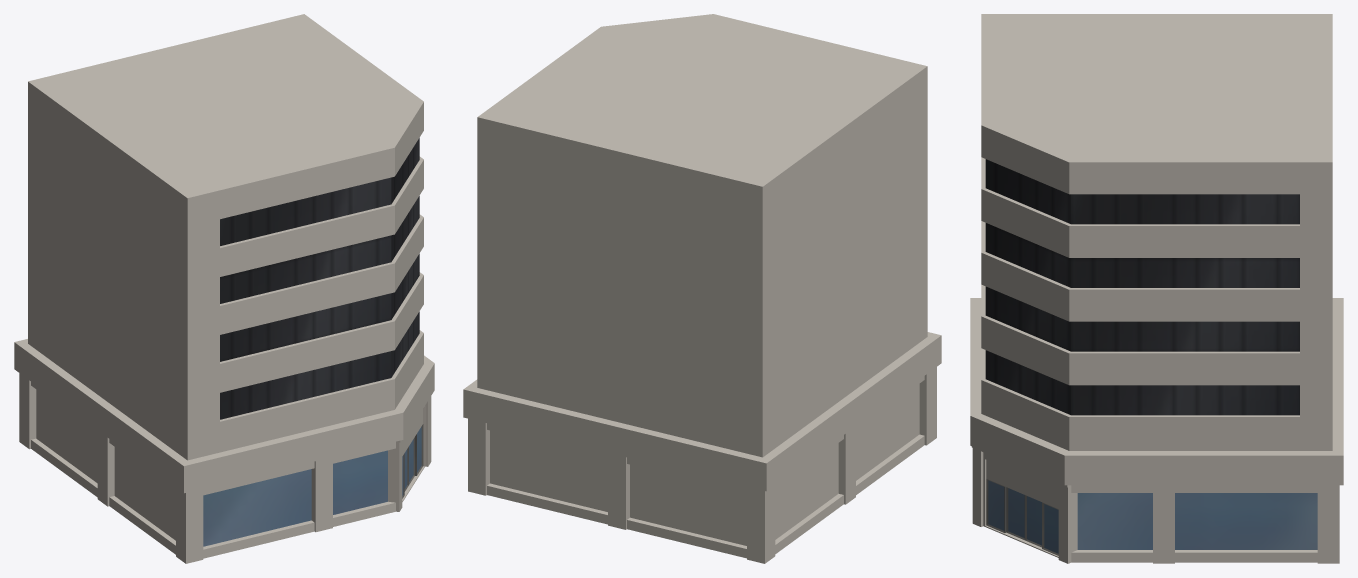
The model's file is Bld_Building_K.fbx.
3 renders of one model, left to right at view 1: azimuth 30°, elevation 25°; view 2: azimuth 150°, elevation 25°; view 3: azimuth 270°, elevation 25°, orthographic. The views are drawn at different scales.
Visible parts, largest first — view 1: Bld_Building_K; view 2: Bld_Building_K; view 3: Bld_Building_K.
Part boxes in pixels (left/top/right/bottom): Bld_Building_K: left=14, top=14, right=434, bottom=563; Bld_Building_K: left=463, top=14, right=941, bottom=563; Bld_Building_K: left=970, top=14, right=1343, bottom=563.
Bounding box in the file's own units: 1700 × 2000 × 1700.
